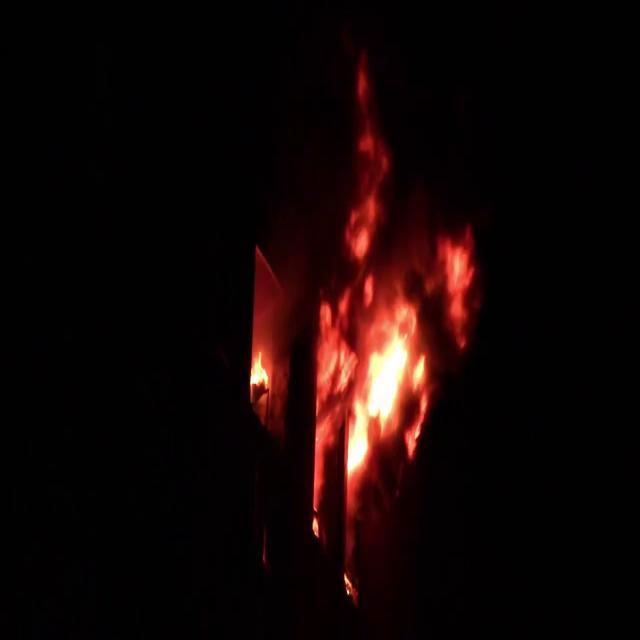Fire: (338, 289, 429, 481), (247, 334, 273, 410)
